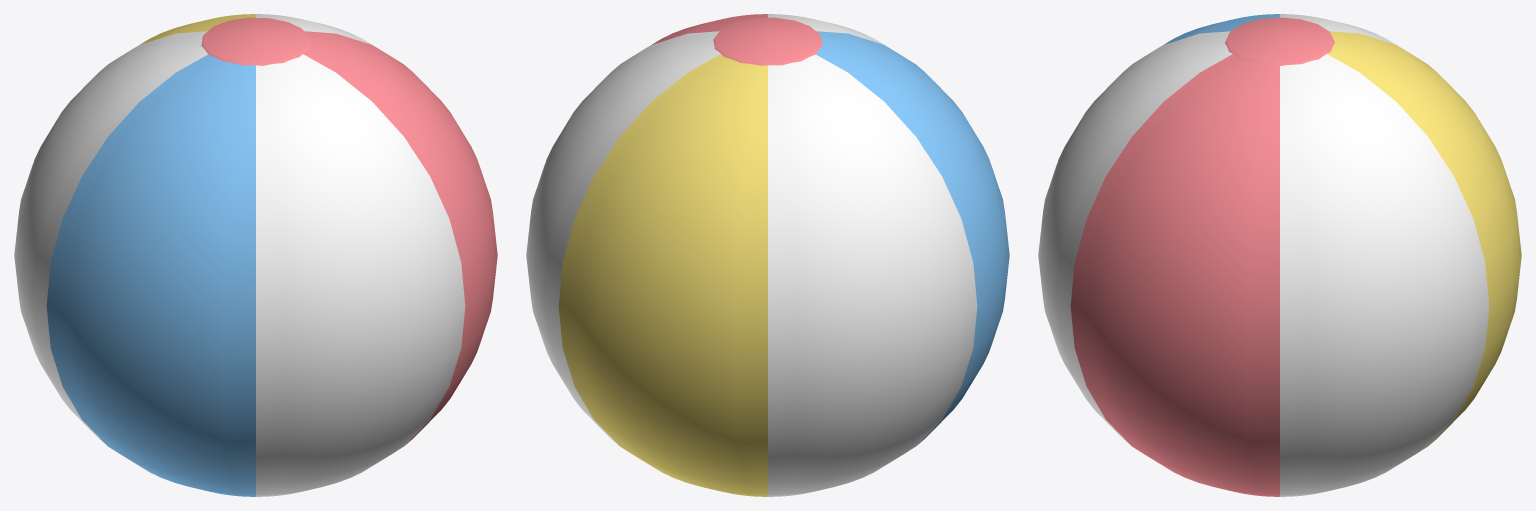
File: LobbyBeachBall.glb
3 renders of one model, left to right at view 1: azimuth 30°, elevation 25°; view 2: azimuth 150°, elevation 25°; view 3: azimuth 270°, elevation 25°, orthographic.
Visible parts, largest first — view 1: White, GoreB, GoreA, Cap, GoreC; view 2: White, GoreC, GoreB, Cap, GoreA; view 3: White, GoreA, GoreC, Cap, GoreB.
Part boxes in pixels (x1=…): White: x1=14, y1=14, x2=465, y2=496; GoreB: x1=46, y1=54, x2=255, y2=496; GoreA: x1=303, y1=31, x2=497, y2=445; Cap: x1=201, y1=17, x2=310, y2=65; GoreC: x1=115, y1=14, x2=255, y2=59; White: x1=526, y1=14, x2=977, y2=496; GoreC: x1=558, y1=54, x2=767, y2=496; GoreB: x1=816, y1=31, x2=1009, y2=445; Cap: x1=713, y1=17, x2=822, y2=65; GoreA: x1=627, y1=14, x2=767, y2=59; White: x1=1038, y1=14, x2=1489, y2=496; GoreA: x1=1070, y1=54, x2=1279, y2=496; GoreC: x1=1327, y1=31, x2=1521, y2=445; Cap: x1=1225, y1=17, x2=1334, y2=65; GoreB: x1=1139, y1=14, x2=1279, y2=59.
Size of the model in its own units: 5 by 5.04 by 5.
